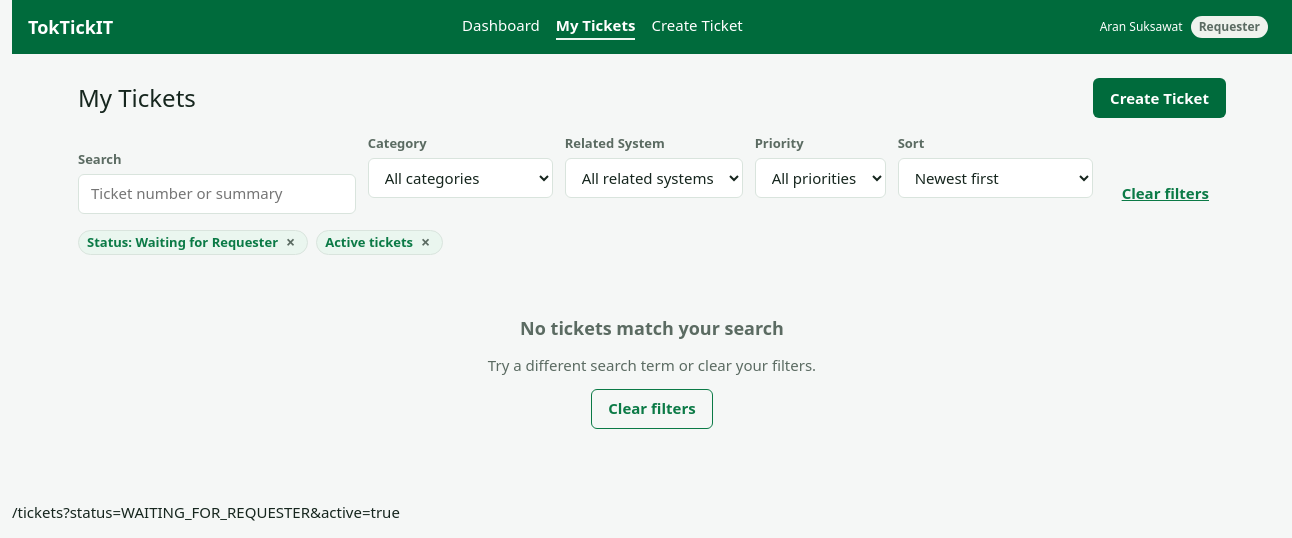
Test: Shell, landing page and drill-down filters › UI-08: My Tickets opens with the dashboard's status and active filters in the request, as chips, and clears them
Expected: the text "Status: Waiting for Requester" is shown, [87,232,278,252]
Expected: the text "Active tickets" is shown, [325,232,413,252]
Step 1. Click the button named "Remove filter: Active tickets" → (426, 242), box [417,234,434,250]
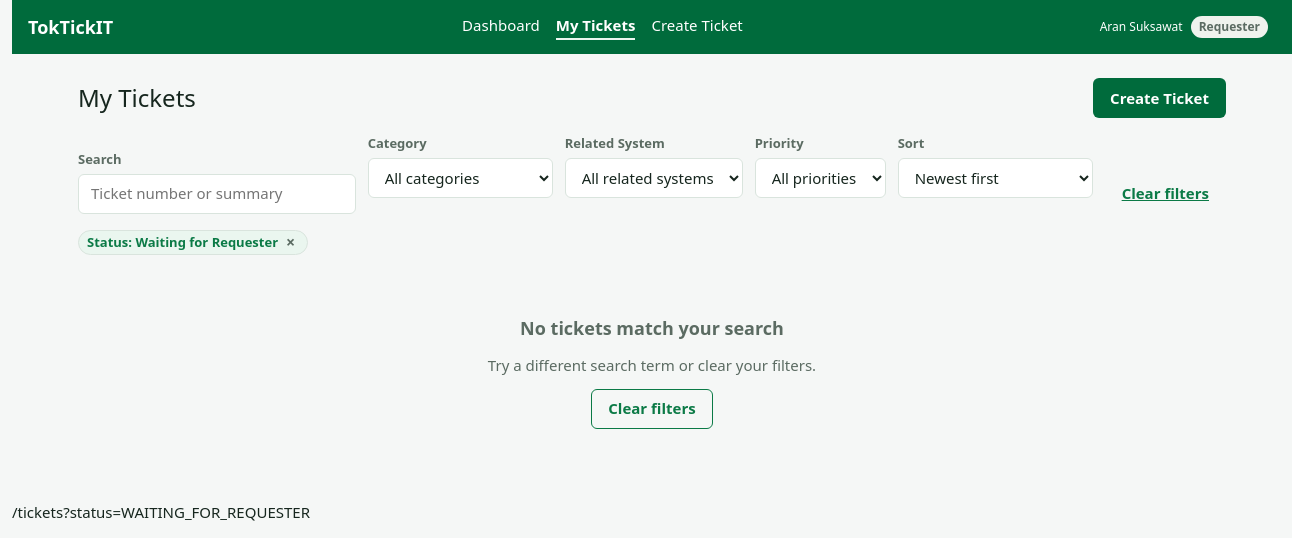
Expected: the text with test id "where" reads "/tickets?status=WAITING_FOR_REQUESTER", [12,502,310,522]
Step 2. Click the button "Clear filters" below "Sort" → (1165, 194), box [1105,174,1226,214]
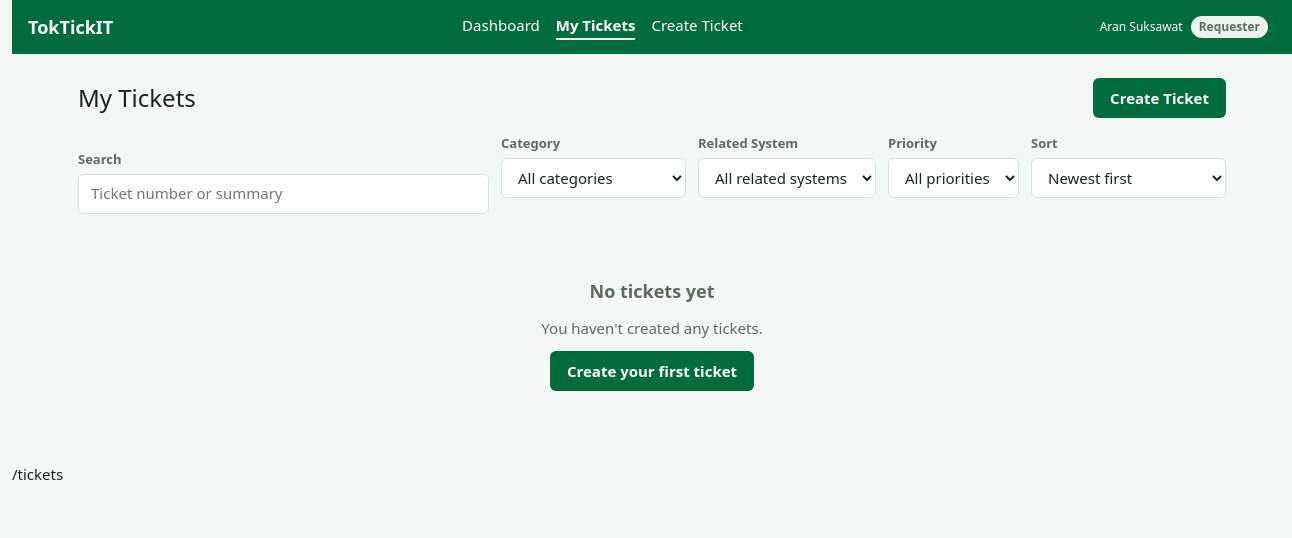
Result: the text with test id "where" reads "/tickets" at [12,464,63,484]
